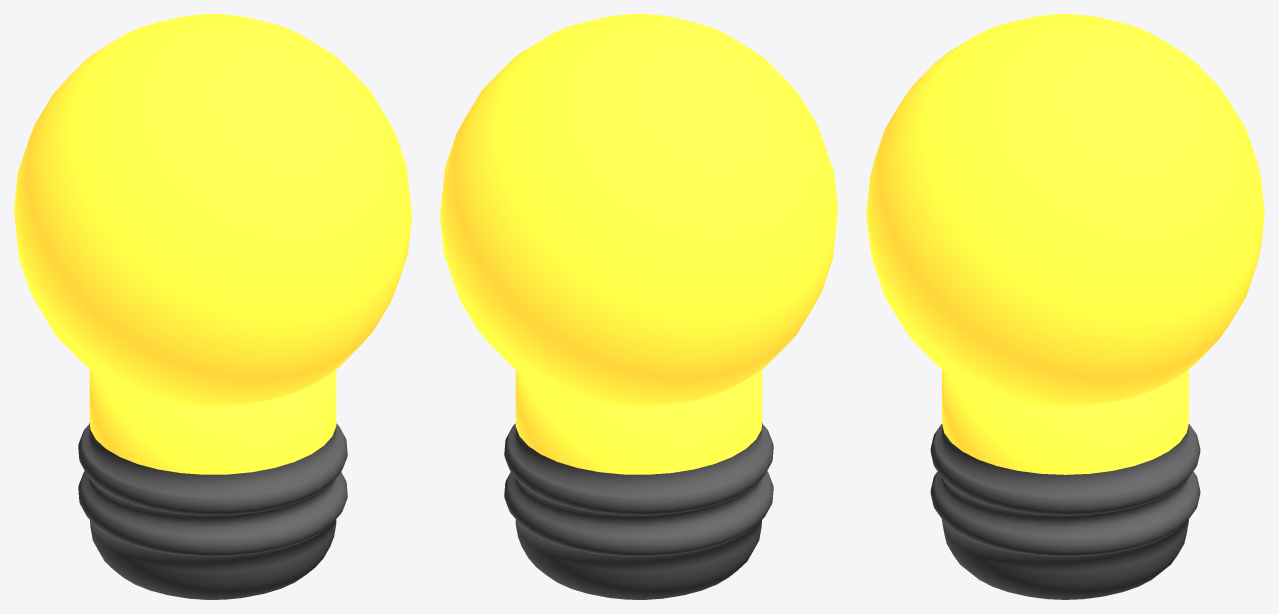
The model's file is lamp.glb.
3 views of the same model, side by side, from view 1: azimuth 30°, elevation 25°; view 2: azimuth 150°, elevation 25°; view 3: azimuth 270°, elevation 25° (orthographic).
Parts seen in each view (by area): view 1: Cylinder; view 2: Cylinder; view 3: Cylinder.
Part boxes in pixels (left/top/right/bottom): Cylinder: left=14, top=14, right=411, bottom=599; Cylinder: left=440, top=14, right=837, bottom=599; Cylinder: left=866, top=14, right=1264, bottom=599.
Size of the model in its own units: 3.22 by 4.75 by 3.22.
